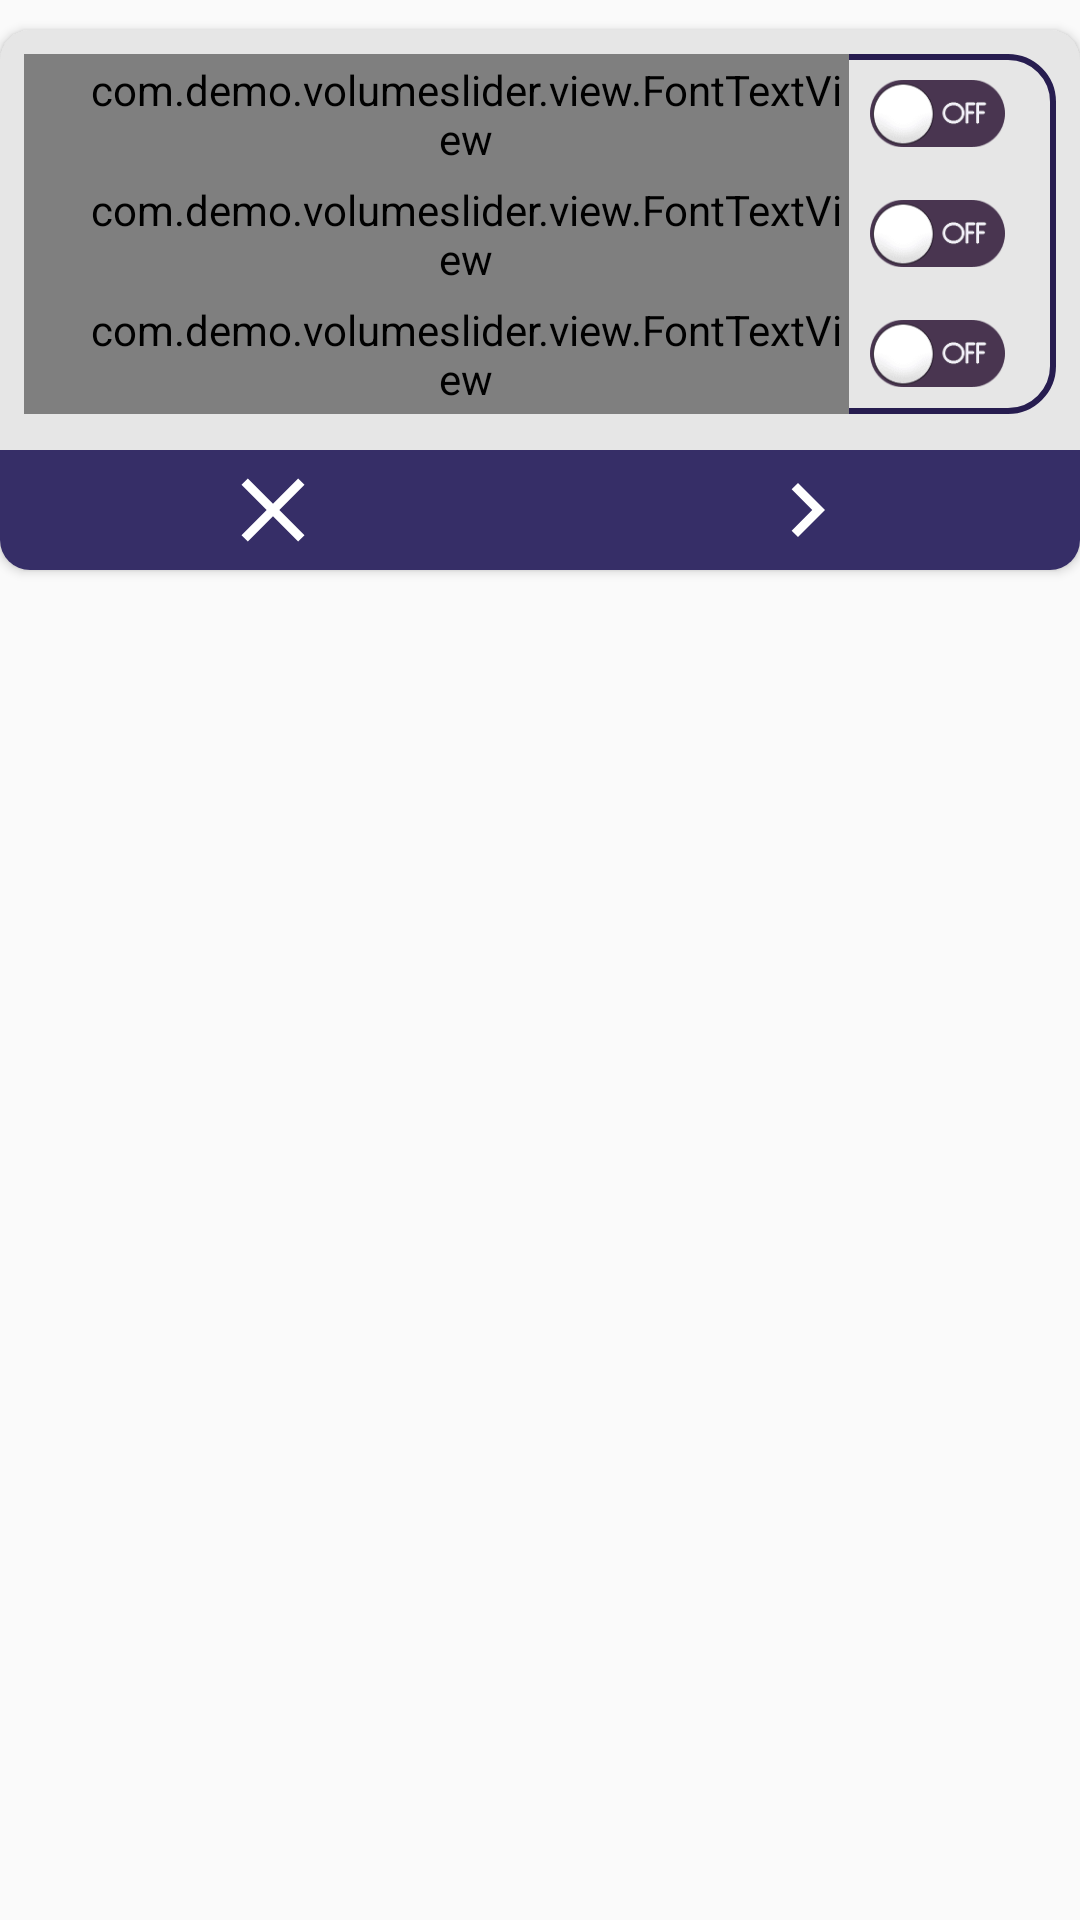

Where to tap for icons on this 1080x1920 app screen, as point (x, y):
clear: point (273, 510)
navigate next: point (808, 510)
